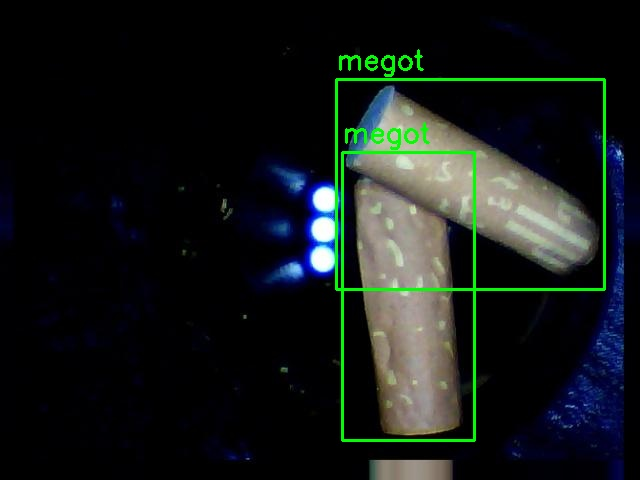megot: (336, 79, 604, 289), (342, 152, 474, 440)
